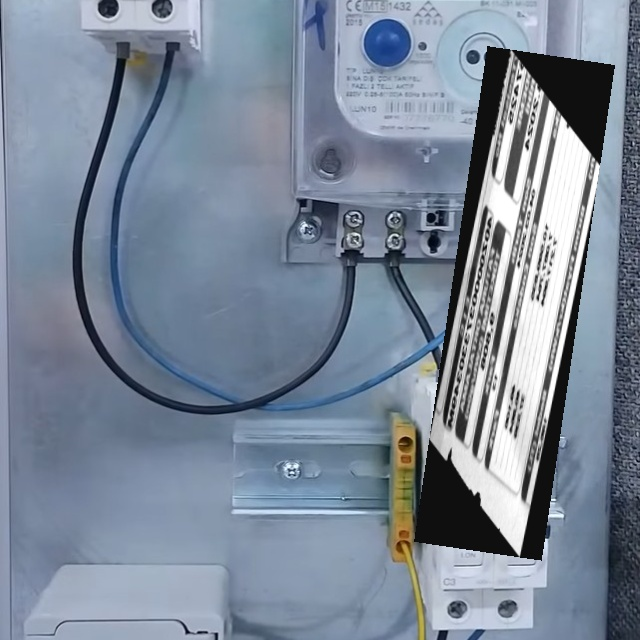electricity-bill: (413, 46, 615, 561)
